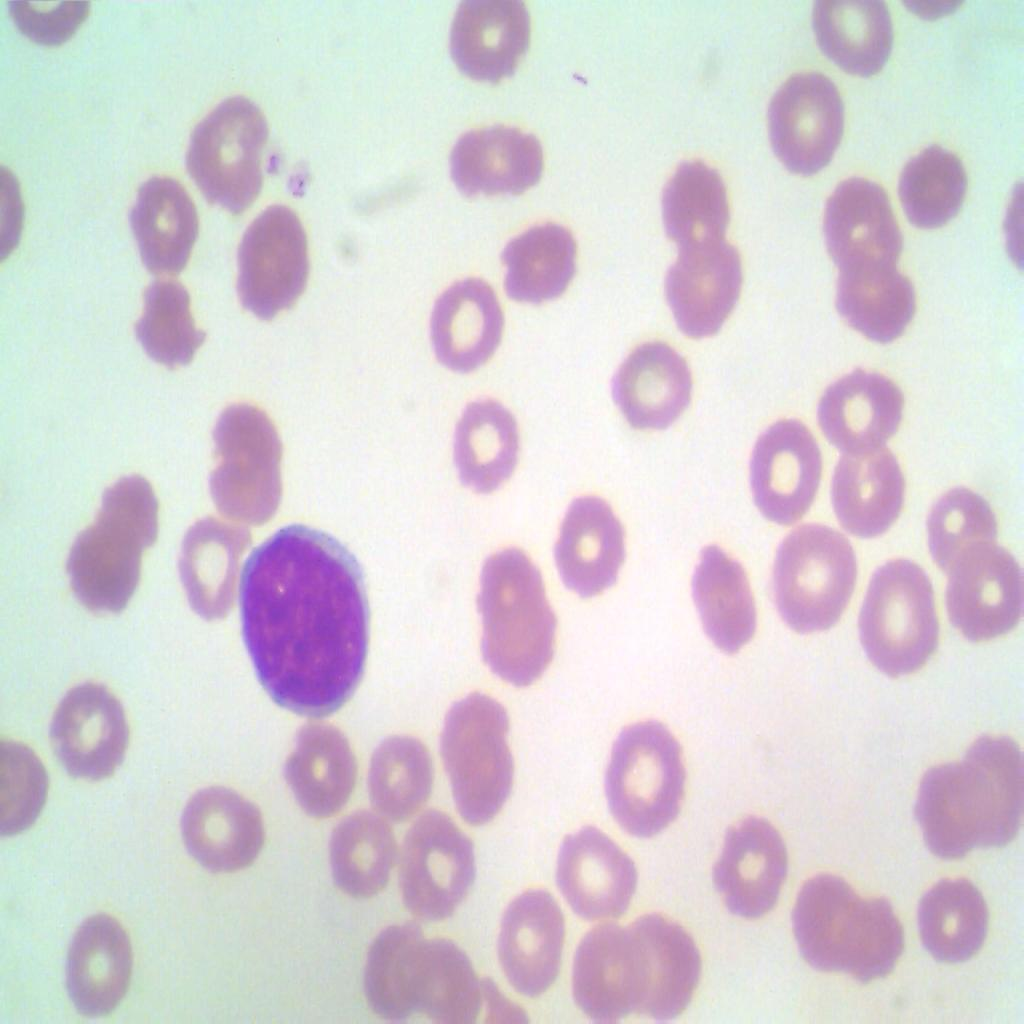Eritrosit: (178, 81, 276, 218), (480, 548, 566, 696), (601, 325, 696, 447), (759, 514, 856, 631), (704, 797, 791, 925), (531, 489, 635, 595), (596, 715, 686, 837), (443, 682, 524, 817), (854, 544, 942, 668), (835, 248, 934, 358), (203, 407, 293, 528), (171, 777, 278, 878), (236, 205, 315, 334), (762, 70, 858, 175), (738, 405, 820, 527), (561, 911, 649, 1023), (393, 808, 473, 931), (675, 538, 759, 655), (441, 120, 550, 207), (62, 906, 143, 1023), (53, 669, 131, 788), (894, 138, 984, 241), (422, 268, 503, 382), (658, 241, 749, 341), (126, 168, 216, 269), (815, 360, 909, 456), (442, 396, 524, 506), (495, 216, 583, 314), (128, 269, 209, 374), (548, 829, 643, 918), (488, 870, 554, 998), (956, 724, 1023, 848), (943, 538, 1023, 641), (826, 445, 908, 545), (626, 911, 702, 1018), (644, 147, 726, 244), (782, 856, 851, 968), (442, 2, 535, 85), (926, 486, 1006, 582), (810, 0, 896, 89), (278, 717, 356, 814), (918, 755, 991, 858), (180, 512, 246, 622), (828, 170, 902, 268), (62, 518, 138, 612), (401, 935, 481, 1023), (86, 472, 162, 561), (364, 726, 433, 820), (829, 884, 899, 975), (918, 871, 988, 962), (326, 804, 391, 898), (356, 930, 421, 1007)
Limfoblast: (231, 521, 378, 718)
